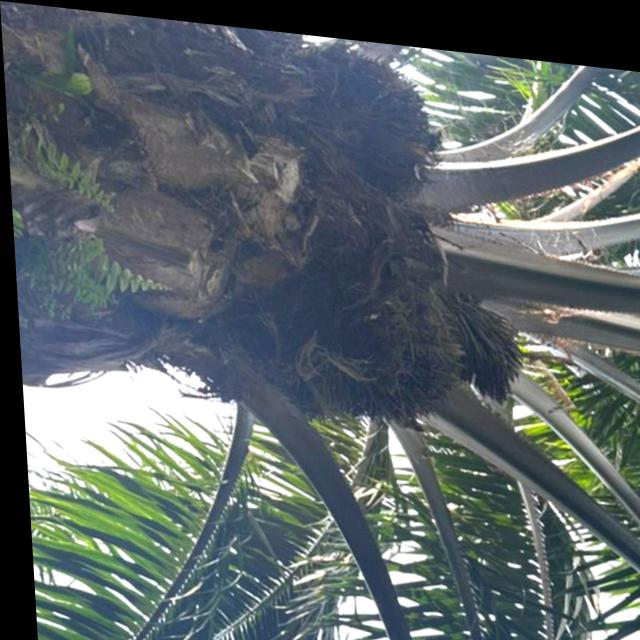almost: (255, 242, 459, 423)
